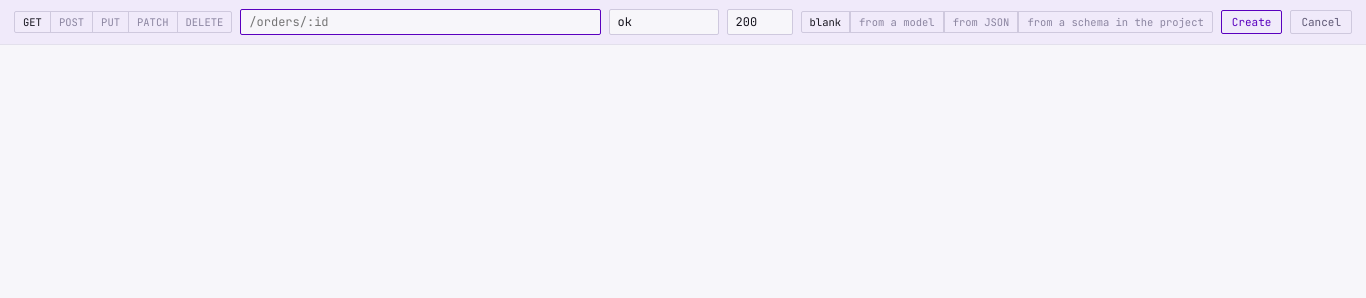
Test case: the JSON flow › asks for a body before it will create an empty one
Type "/orders" into the field named "path".
click(420, 22); type("/orders")  # box left=240, top=9, right=600, bottom=35
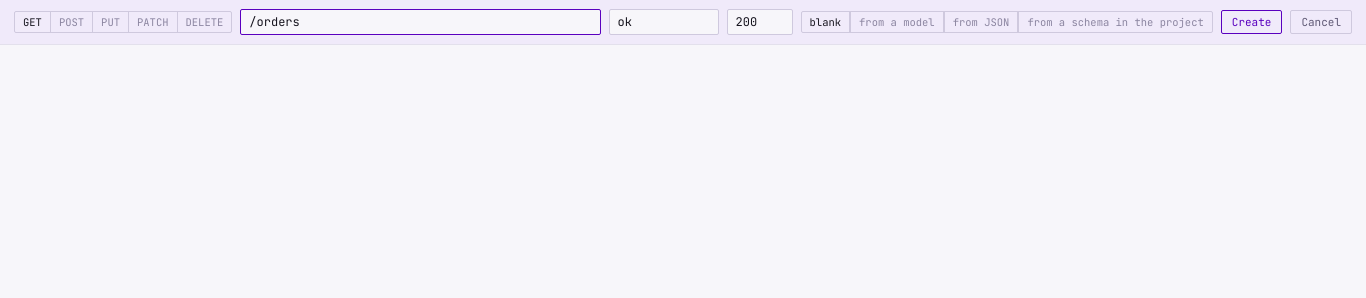
Click the button "from JSON".
click(981, 22)  # box left=944, top=12, right=1018, bottom=32
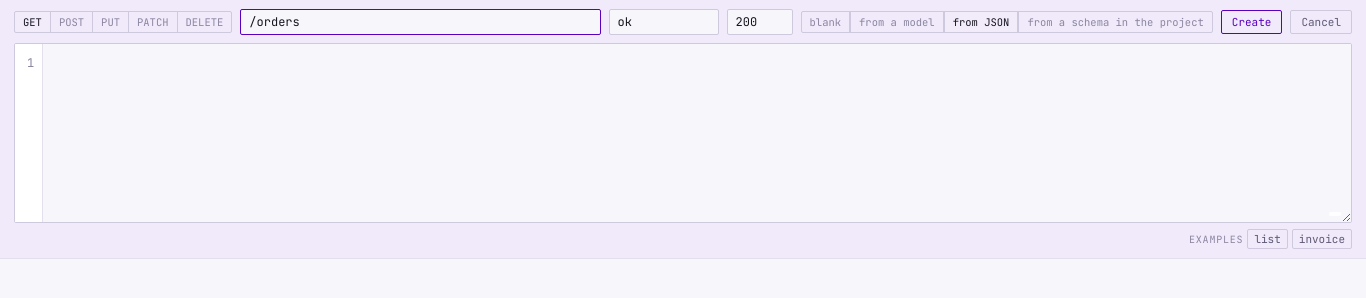
Click the button "Create".
click(1252, 22)  # box left=1221, top=10, right=1282, bottom=34
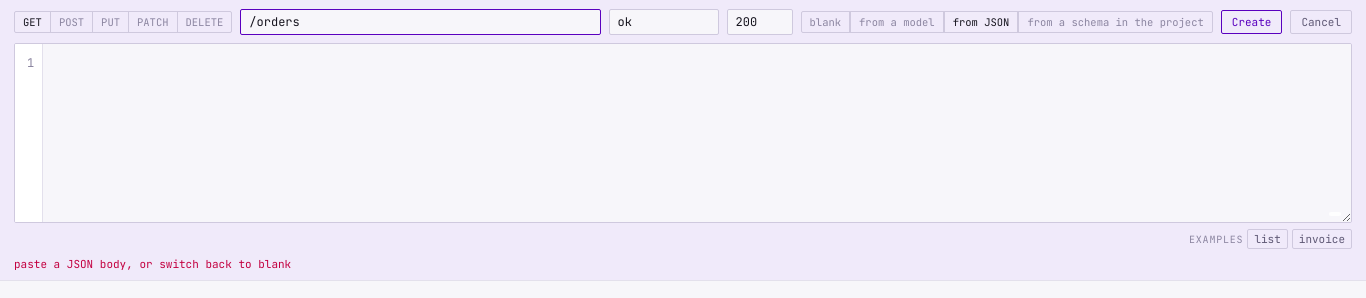
Result: the message shows "JSON" at left=14, top=257, right=291, bottom=271
